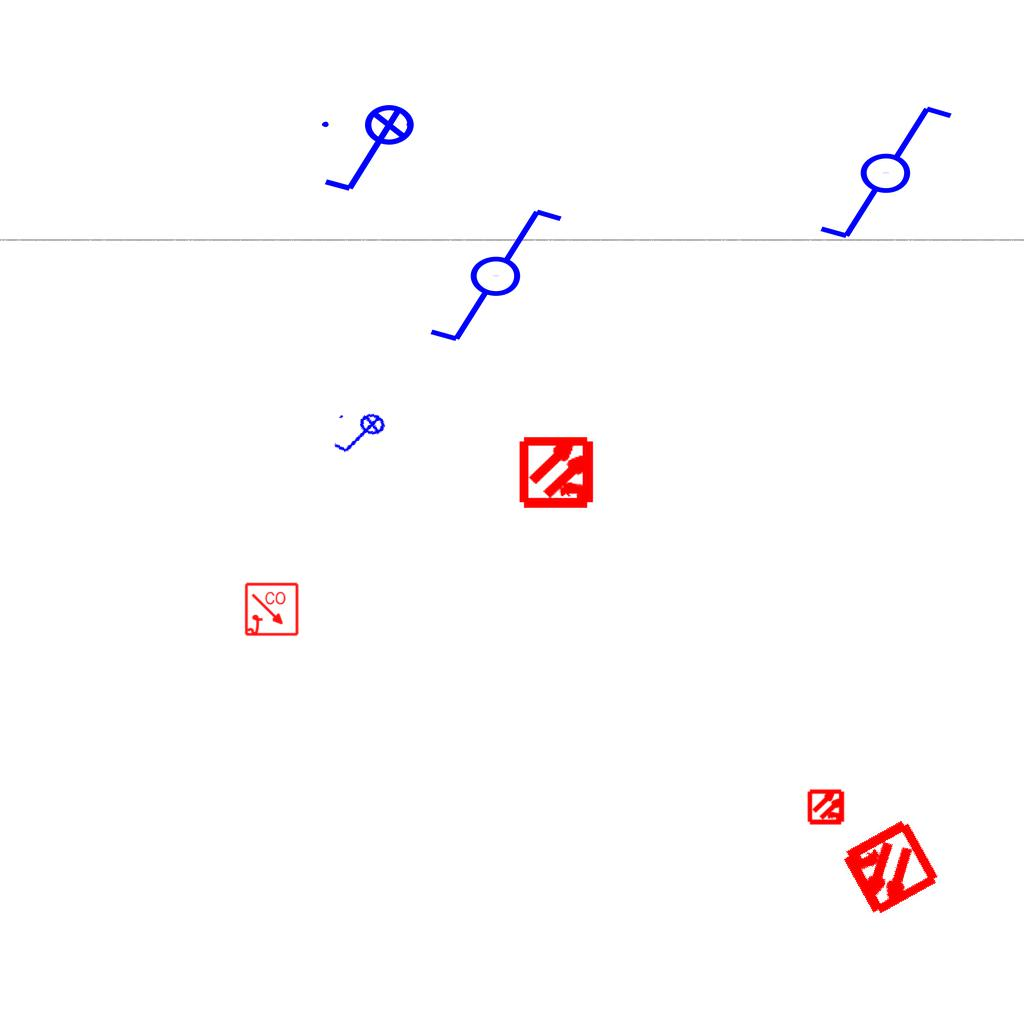Ausschalter_beleuchtet: (316, 103, 428, 199), (328, 405, 394, 465)
OT_Multisensormelder_(Kombination_RMO_WMD): (811, 791, 966, 946), (502, 416, 615, 529), (799, 779, 855, 835)
ROA_Rauchmelder_optisch_mit_Signalgeber_(Sockelsirene): (244, 582, 300, 638)
Wechselschalter: (799, 99, 956, 243), (409, 202, 566, 346)
